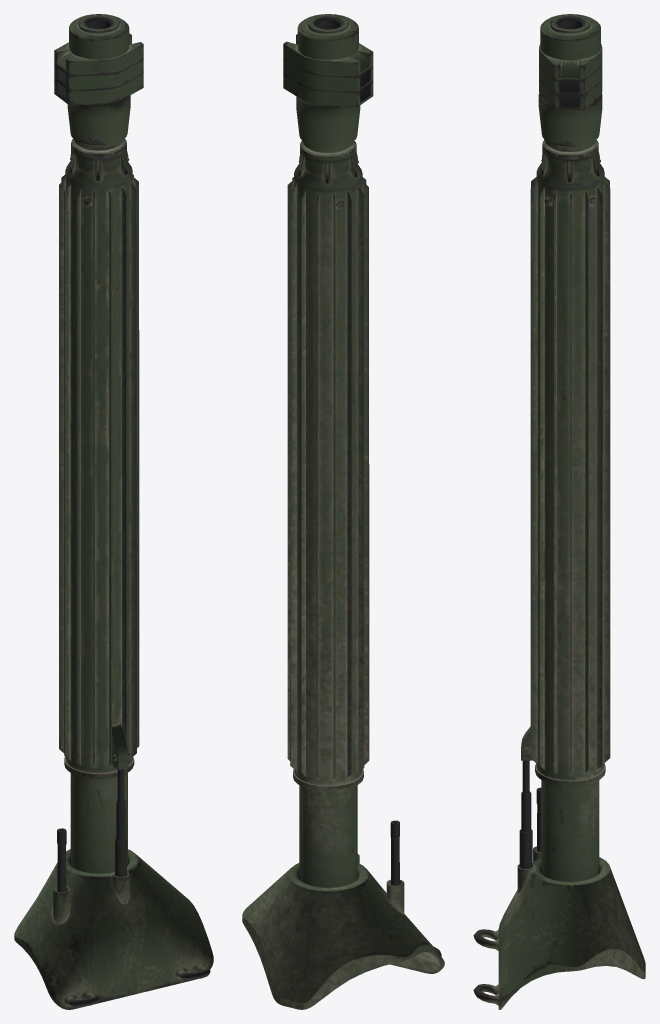
Rendered from Gun_04.glb.
3 views of the same model, side by side, from view 1: azimuth 30°, elevation 25°; view 2: azimuth 150°, elevation 25°; view 3: azimuth 270°, elevation 25° (orthographic).
Parts seen in each view (by area): view 1: set_0_group_0; view 2: set_0_group_0; view 3: set_0_group_0.
Boxes of the visible parts, bbox=[...] form: set_0_group_0: bbox=[14, 14, 213, 1009]; set_0_group_0: bbox=[242, 14, 444, 1009]; set_0_group_0: bbox=[473, 14, 645, 1009].
Bounding box in the file's own units: 0.8407 × 4.55 × 0.7438.
1 material, 1 textured.
